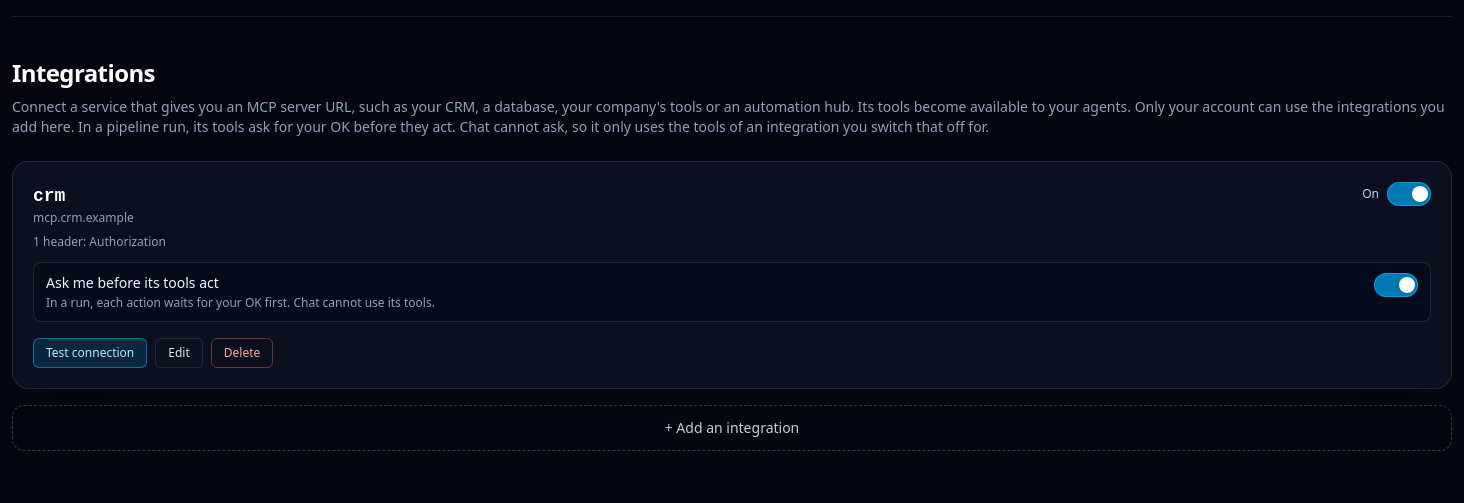
Test: IntegrationsSection › turns an integration off
Step 1. Click the switch named "Let agents use crm" → click(1409, 194), box [1387, 182, 1431, 206]
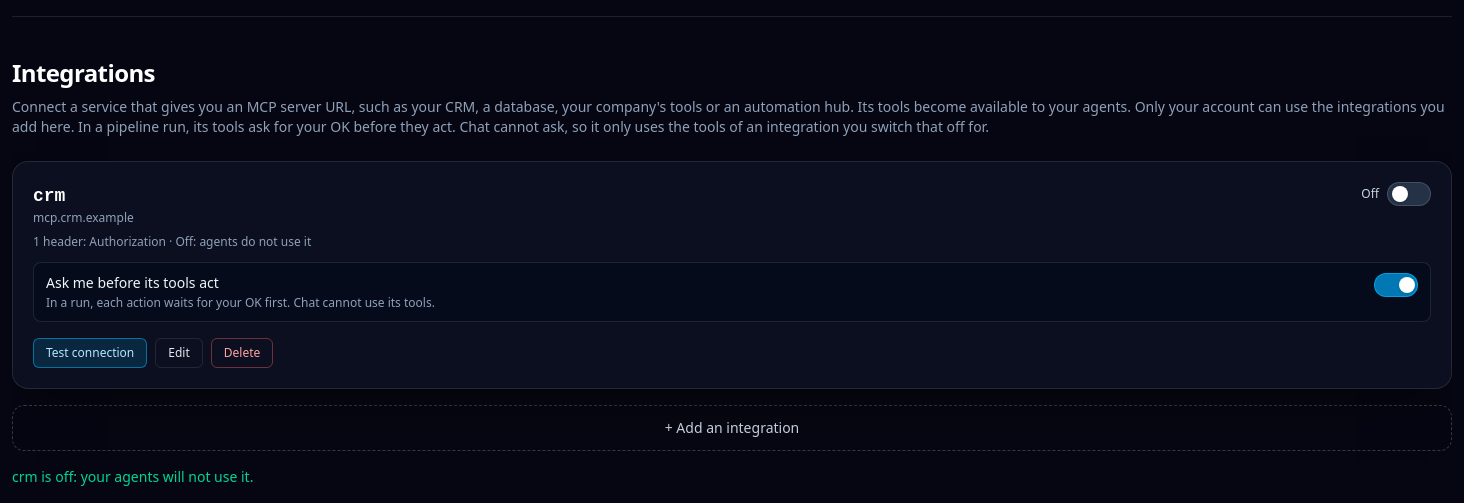
Now the switch named "Let agents use crm" is not checked, box [1387, 182, 1431, 206]
Now the text "crm is off: your agents will not use it." is shown, box [12, 467, 253, 486]
